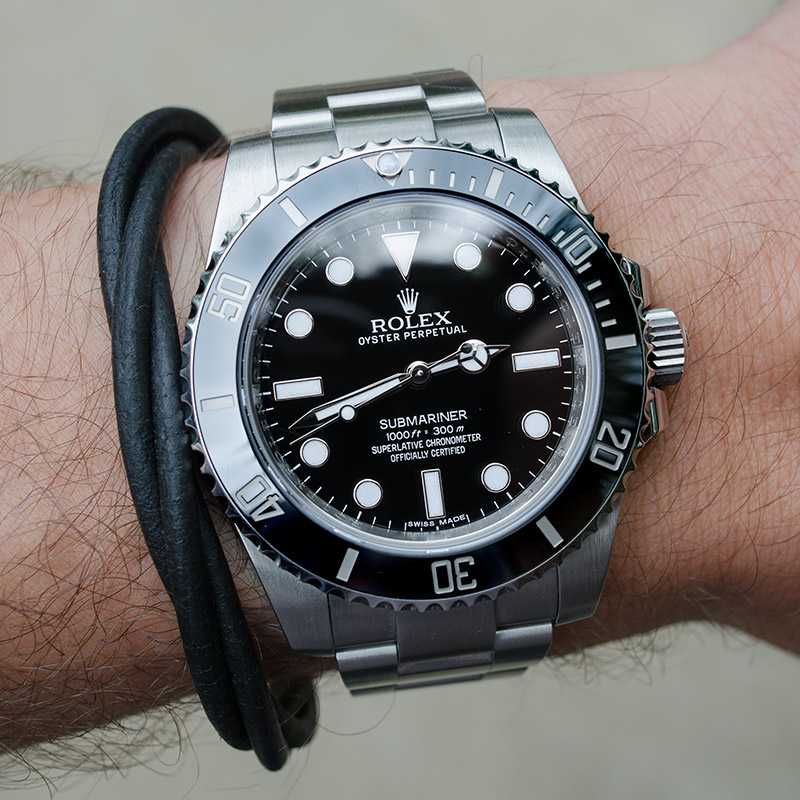clock: (252, 220, 576, 529)
